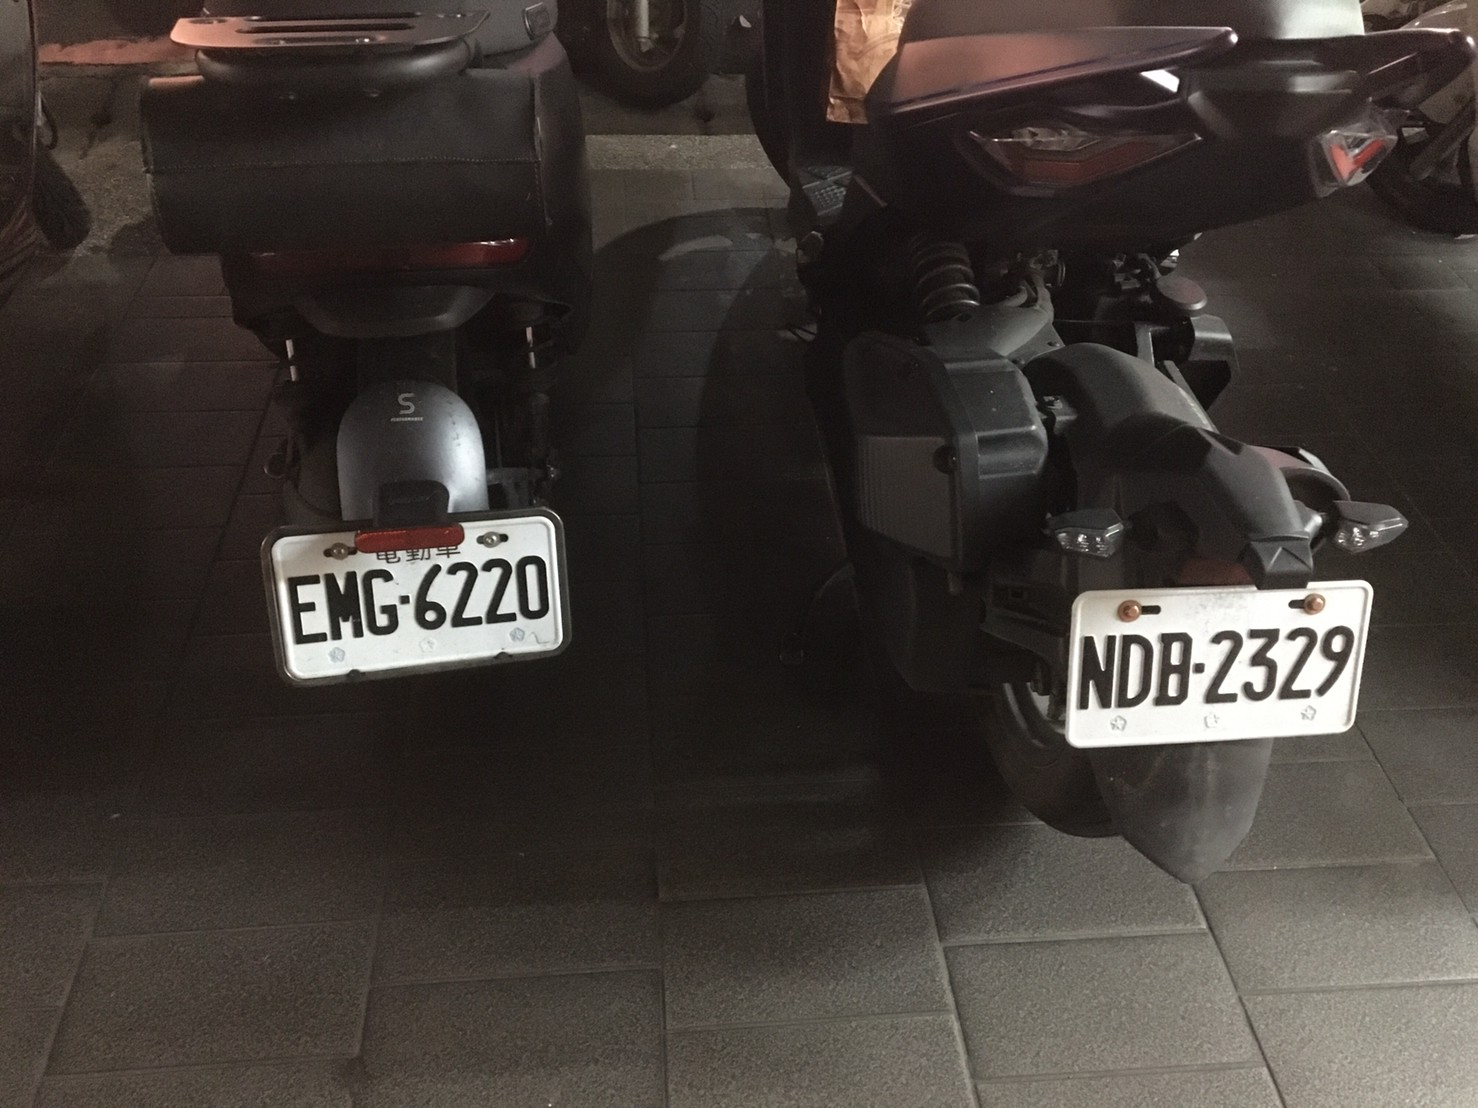LP: (1051, 575, 1381, 757), (264, 507, 570, 703)
